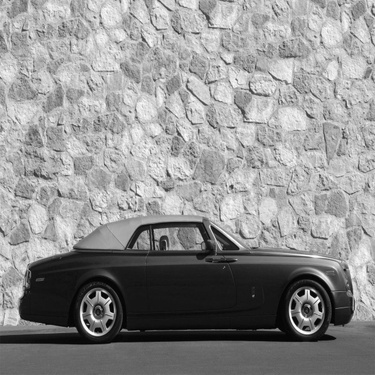car: (13, 197, 363, 353)
